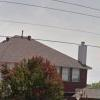Chimney: (74, 36, 92, 75)
